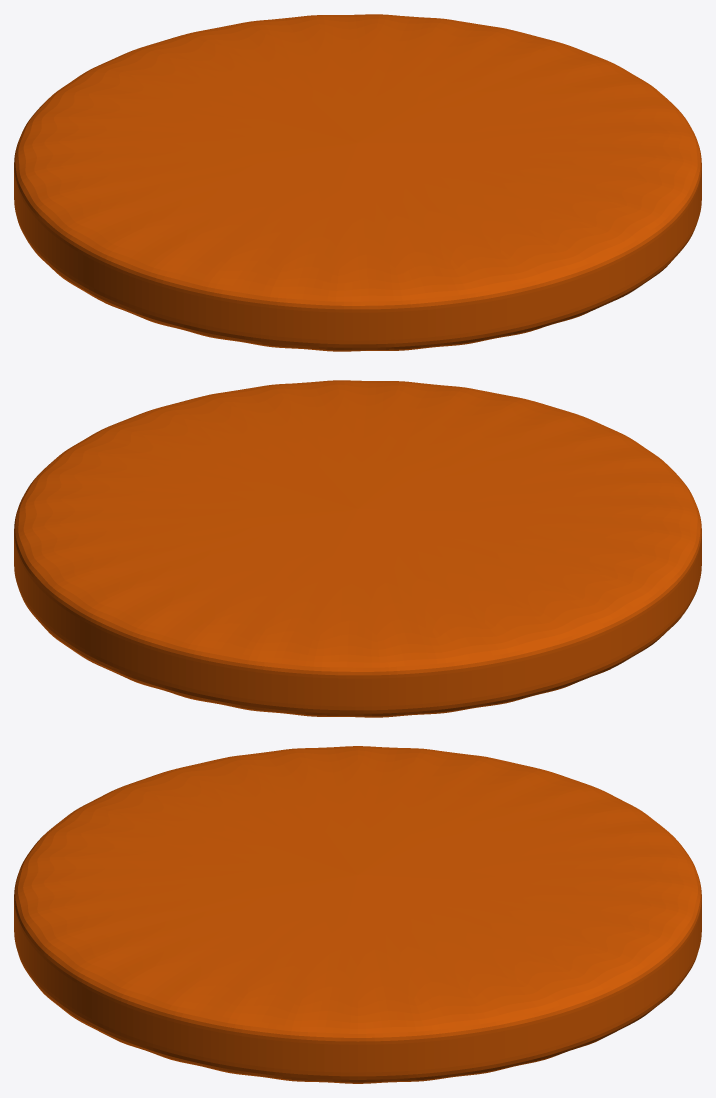
File: carne.glb
3 views of the same model, one above another, from view 1: azimuth 30°, elevation 25°; view 2: azimuth 150°, elevation 25°; view 3: azimuth 270°, elevation 25° (orthographic).
Visible parts, largest first — view 1: Cylinder.002; view 2: Cylinder.002; view 3: Cylinder.002.
Boxes of the visible parts, bbox=[...] form: Cylinder.002: bbox=[14, 14, 701, 351]; Cylinder.002: bbox=[14, 380, 701, 717]; Cylinder.002: bbox=[14, 746, 701, 1083].
Size of the model in its own units: 1.99 by 0.2716 by 1.99.
